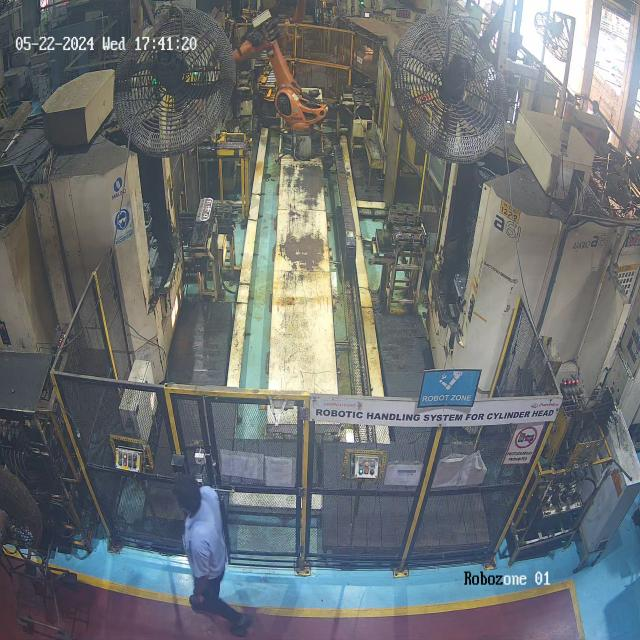person: (164, 466, 251, 640)
